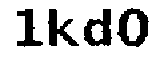0: (118, 6, 150, 48)
1: (12, 7, 44, 50)
d: (84, 7, 117, 49)
k: (46, 7, 80, 50)
